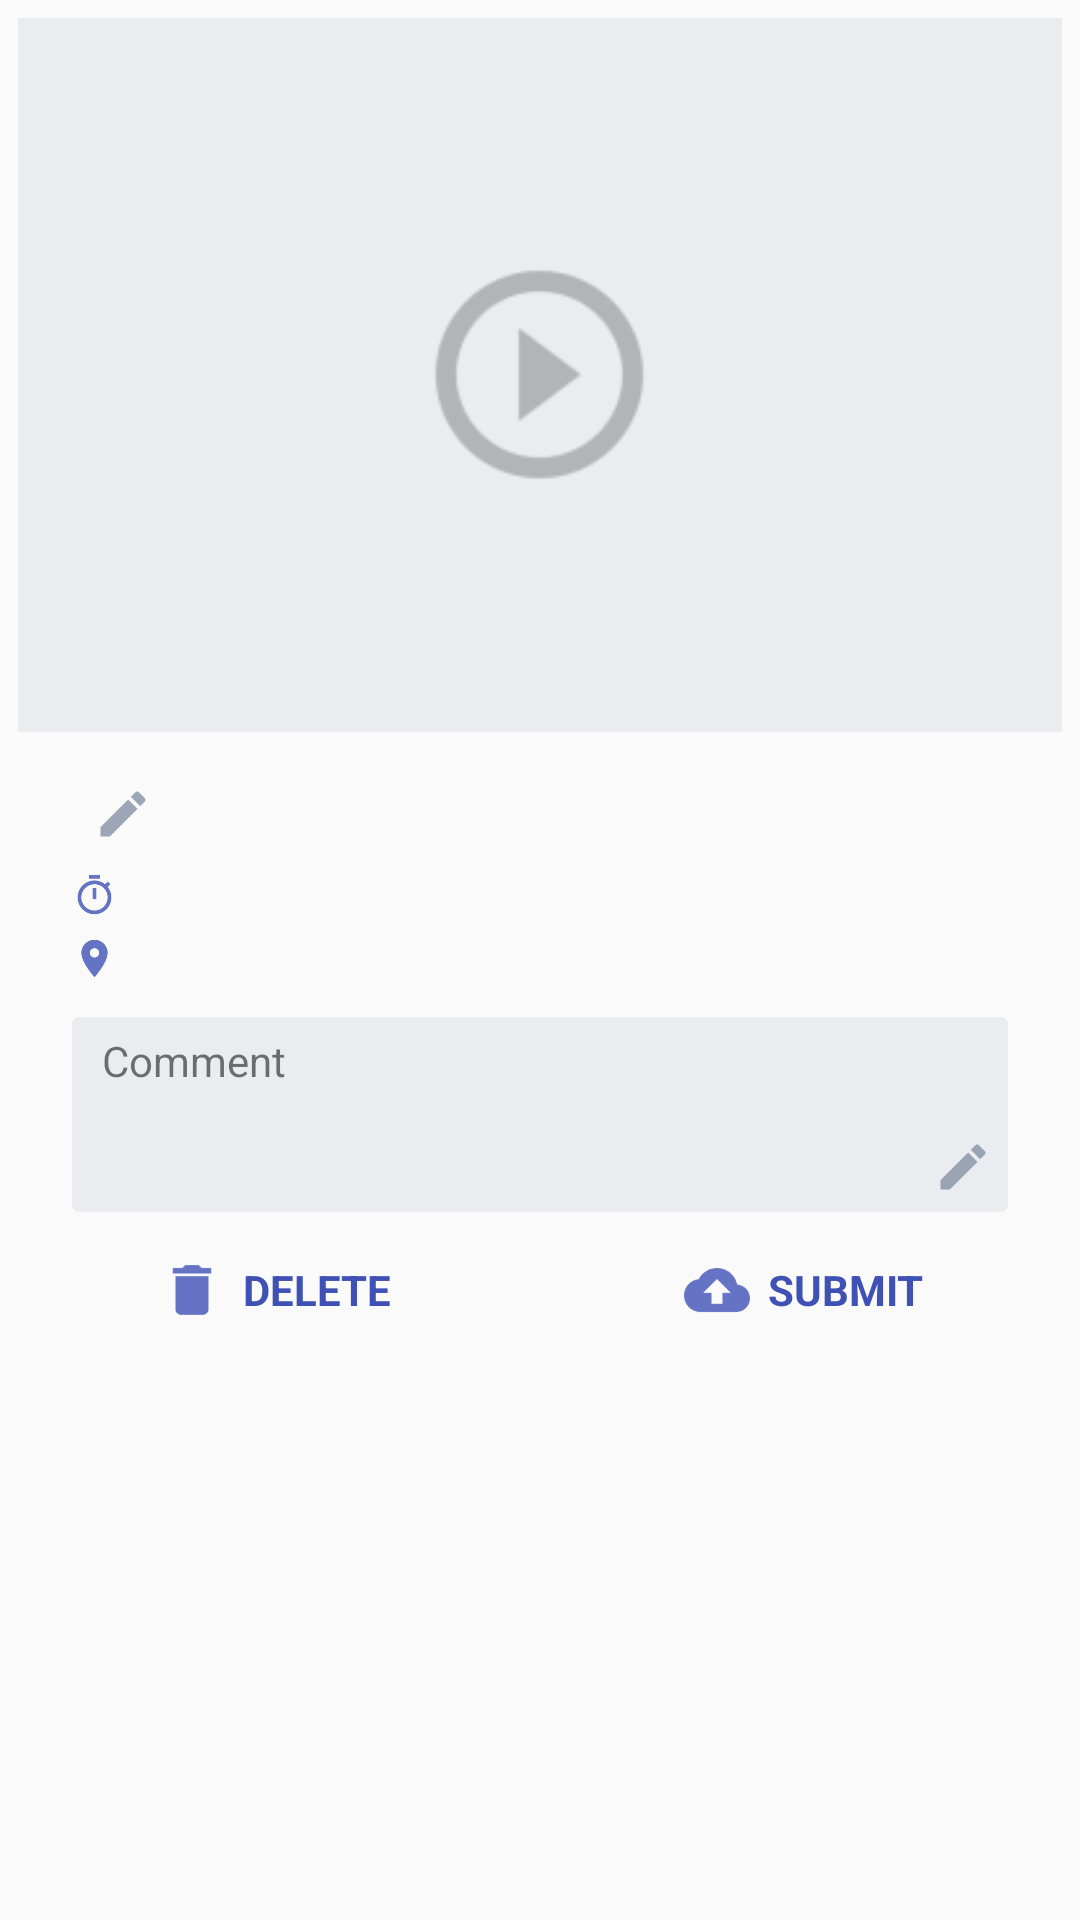

Locate icon controls on the screen. Image size 1080w x 1920h, boxes as (x1, y1, x2, y2).
edit: (100, 791, 146, 837), (940, 1144, 986, 1190)
location: (81, 940, 108, 977)
play circle: (436, 271, 643, 478)
timer: (77, 875, 112, 914)
upload: (684, 1268, 750, 1312)
